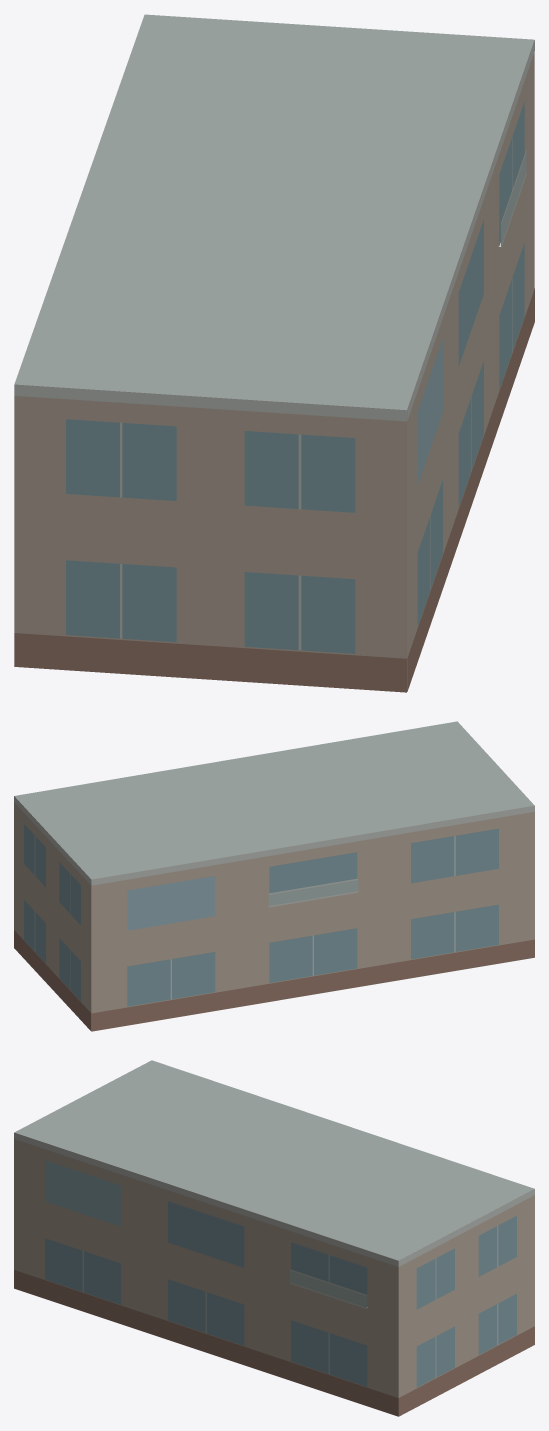
File: survey-upis-32803887.glb
The picture shows the model from 3 angles, top to bottom: view 1: azimuth 30°, elevation 25°; view 2: azimuth 150°, elevation 25°; view 3: azimuth 270°, elevation 25°; orthographic projection. The views are drawn at different scales.
Visible parts, largest first — view 1: survey-upis-32803887.tmp; view 2: survey-upis-32803887.tmp; view 3: survey-upis-32803887.tmp.
Boxes of the visible parts, box(x1,y1,x2,y2) form: survey-upis-32803887.tmp: box(14, 14, 534, 692); survey-upis-32803887.tmp: box(14, 721, 534, 1031); survey-upis-32803887.tmp: box(14, 1060, 534, 1416).
Bounding box in the file's own units: 16.83 × 6.1 × 18.47.
